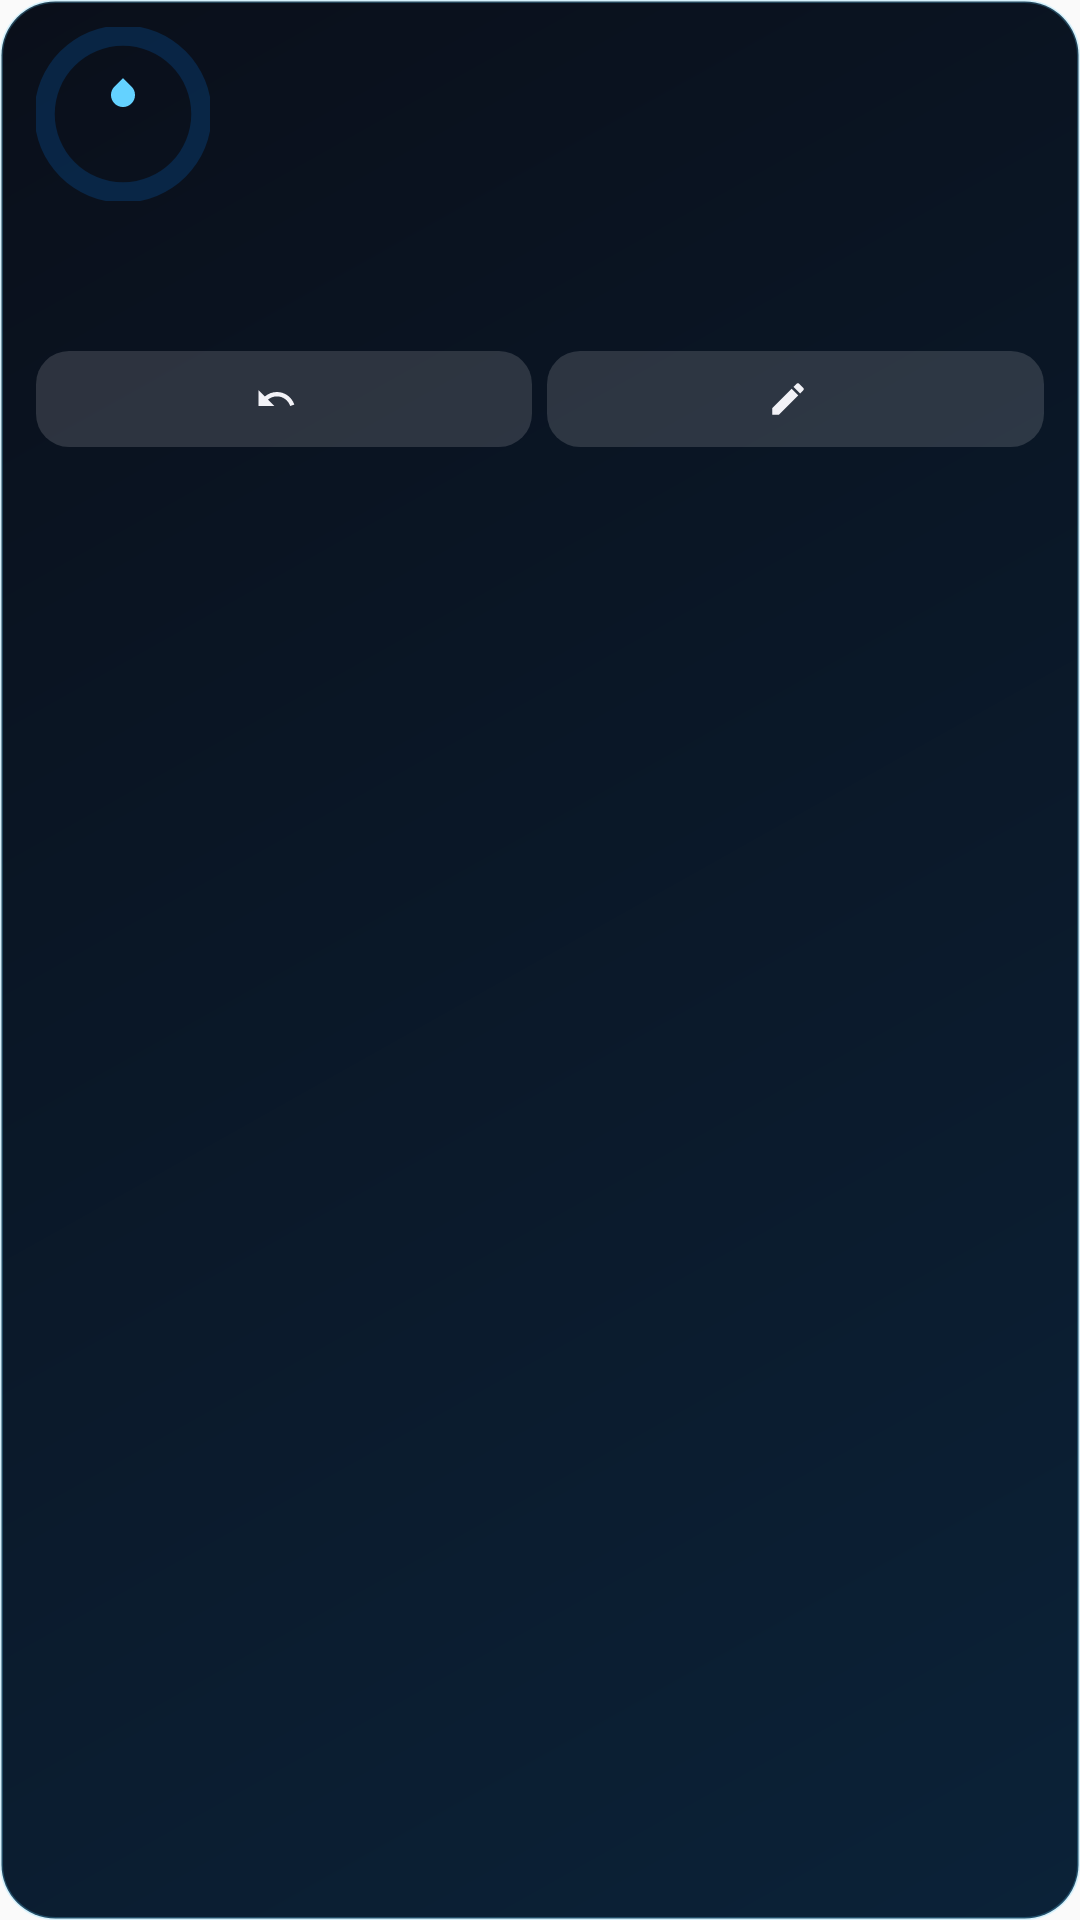

Point at icon controls on the screen. Image size 1080*1920, points as (x=x, y=y).
drop: (x=123, y=92)
edit: (x=788, y=399)
undo: (x=276, y=398)
